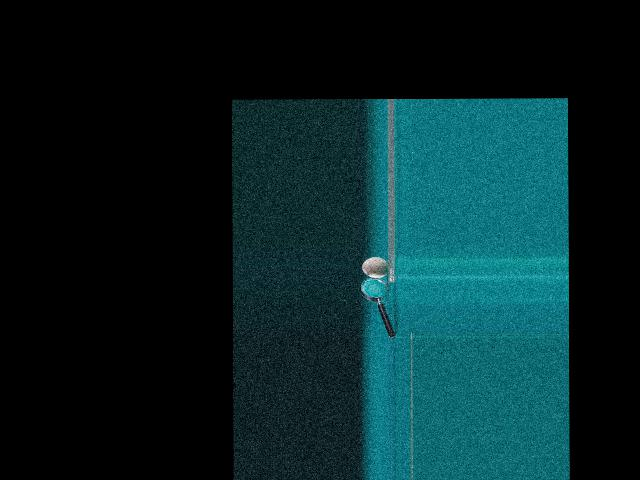egg: (362, 256, 389, 278)
